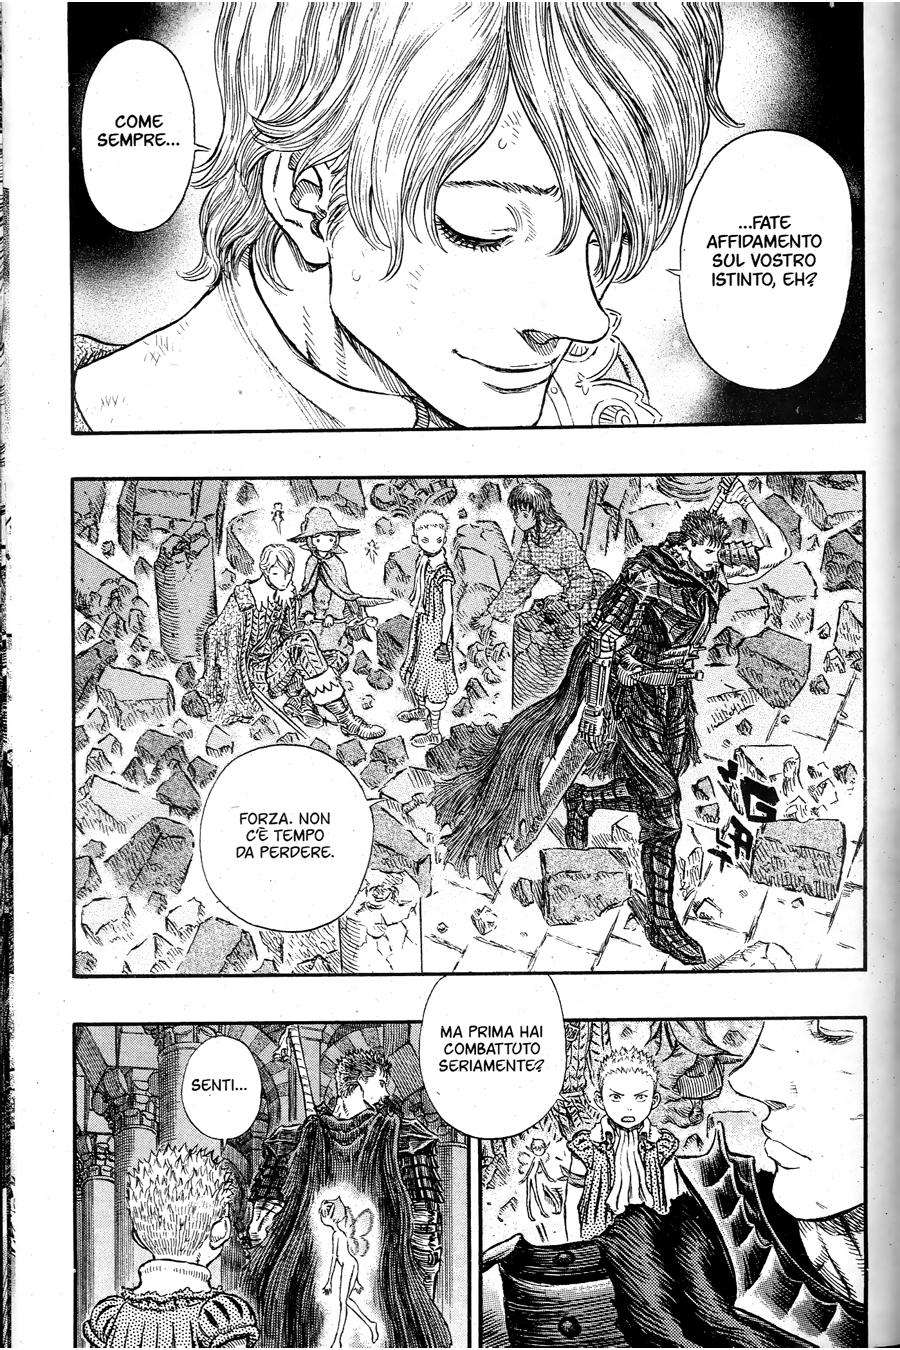Baloon: (681, 128, 851, 393), (202, 742, 369, 932), (418, 975, 562, 1146), (79, 34, 198, 236), (179, 1036, 263, 1154)
Vignetta: (71, 466, 861, 977), (69, 3, 869, 426), (71, 1021, 465, 1350), (480, 1015, 865, 1350)
